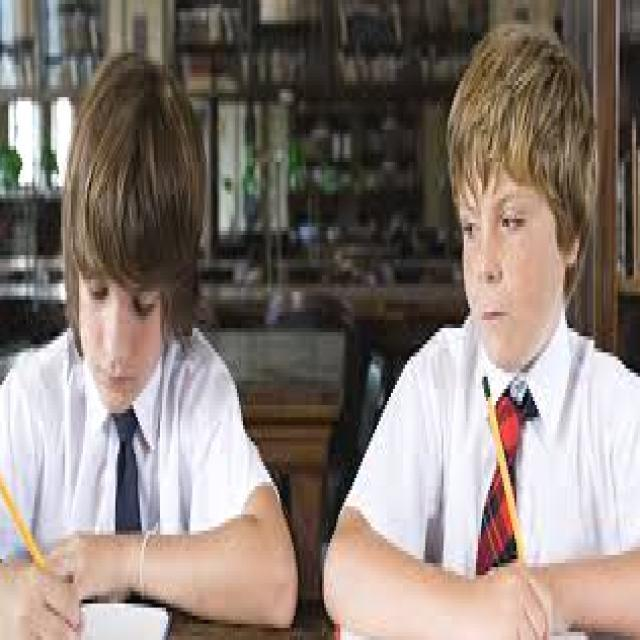cheating: (317, 15, 640, 640)
good: (0, 49, 307, 640)
